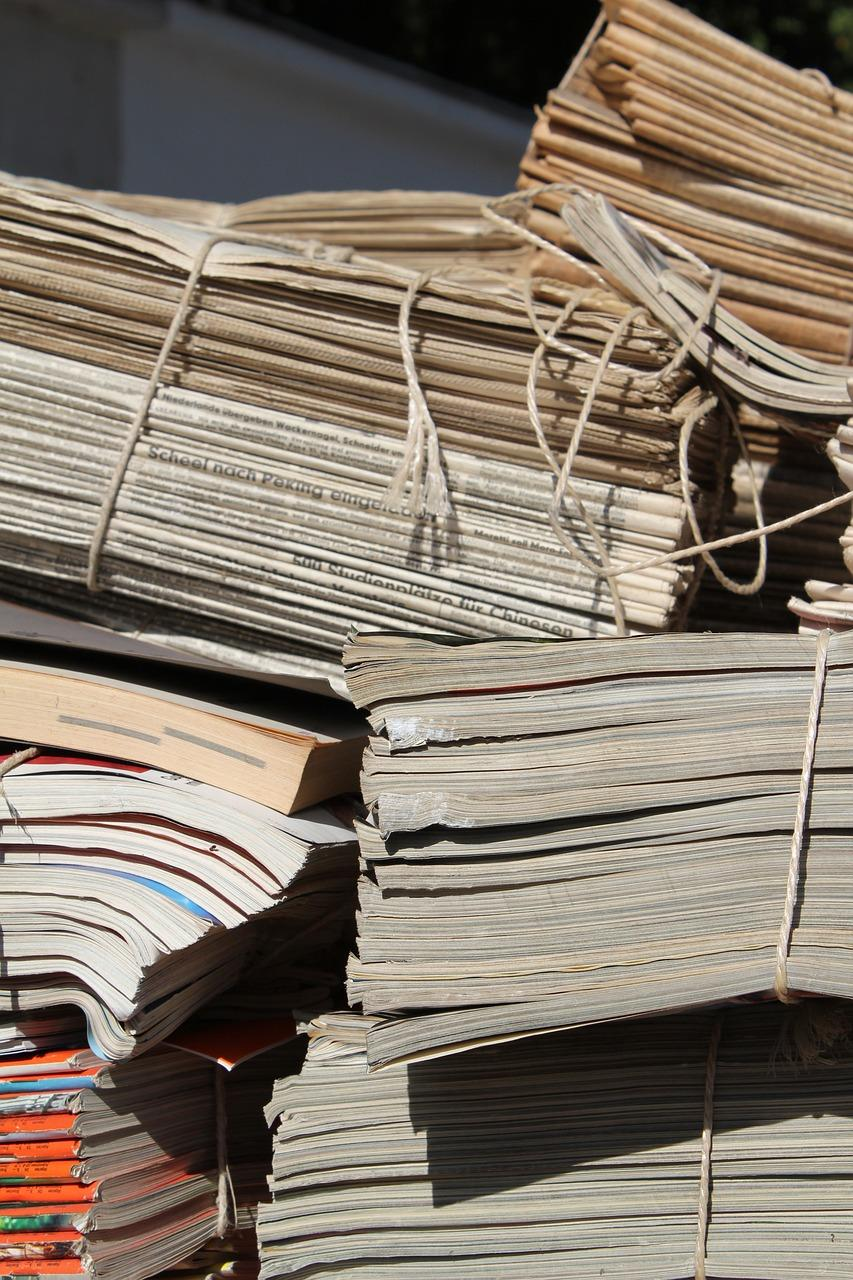Paper: (8, 178, 706, 698), (335, 623, 853, 1026), (3, 663, 290, 1280), (248, 1005, 853, 1280)
